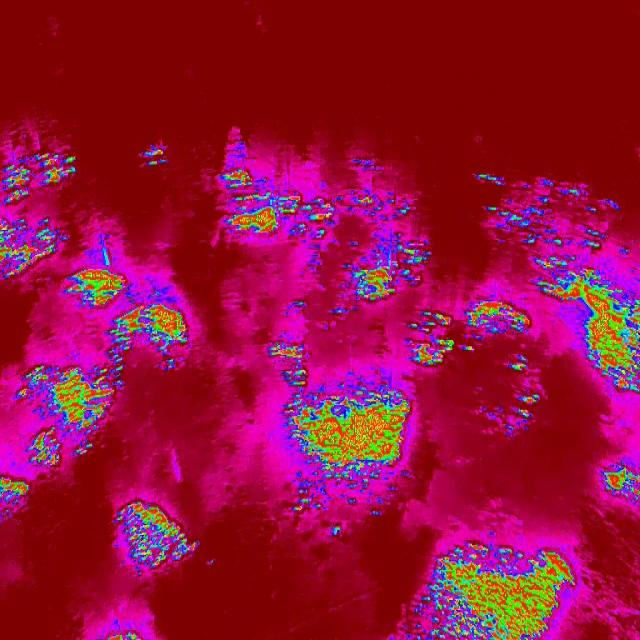fire: (474, 173, 639, 394), (269, 341, 415, 524), (208, 155, 433, 239), (389, 546, 576, 640), (0, 137, 76, 289), (18, 358, 117, 468), (404, 294, 533, 366), (331, 240, 434, 320), (100, 299, 194, 386), (113, 489, 198, 580), (65, 266, 129, 306), (598, 464, 640, 508), (0, 474, 33, 517), (140, 140, 169, 172), (102, 626, 150, 640)
